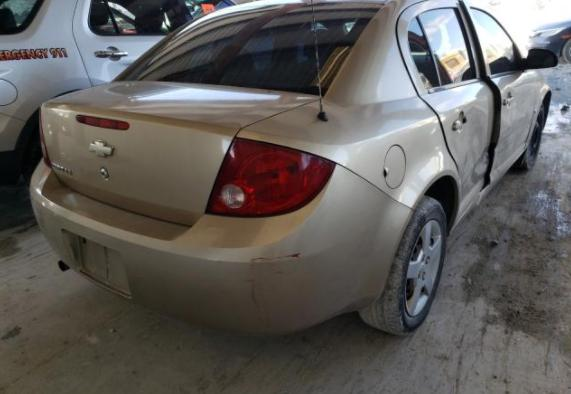Back-bumper: (29, 160, 414, 338)
Back-door: (396, 0, 498, 228)
Back-wheel: (362, 195, 448, 336)
Back-windshield: (109, 3, 389, 97)
Fender: (524, 68, 551, 151)
Front-door: (462, 0, 539, 180)
Front-wheel: (508, 108, 544, 175)
Front-window: (410, 8, 476, 92)
Mirror: (514, 46, 557, 71)
Quarter-panel: (237, 96, 461, 211)
Rocker-panel: (450, 150, 524, 236)
Tail-light: (204, 136, 335, 220), (39, 106, 51, 168)
Trunk: (43, 80, 321, 230)
